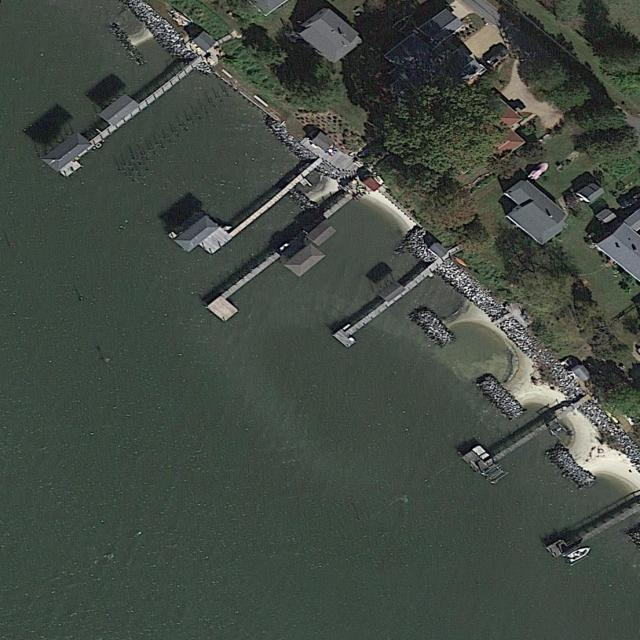ship: (565, 544, 594, 565), (527, 160, 553, 182)
small-vehicle: (486, 48, 510, 67)
